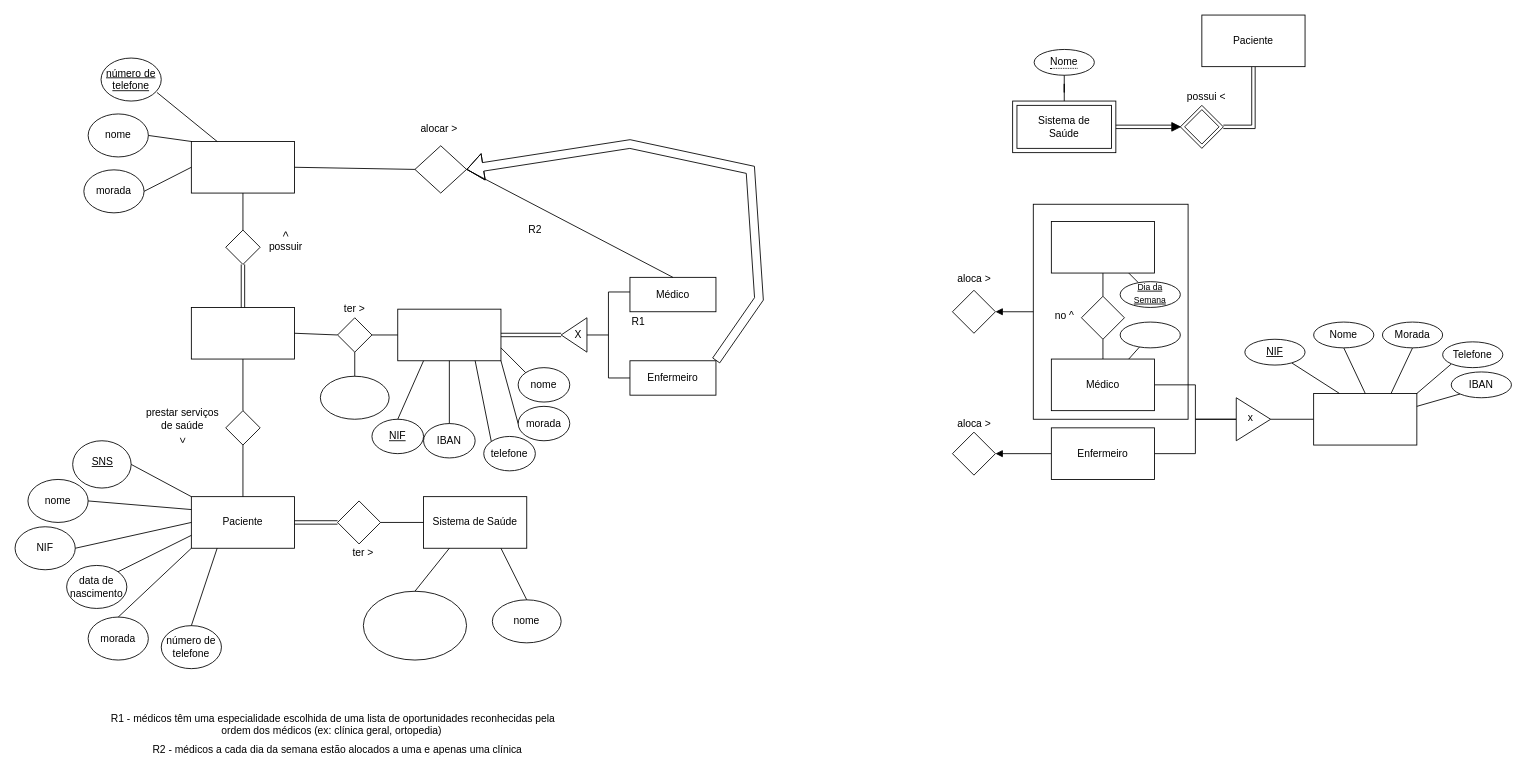
Some shapes in this 1527 by 778 pixel diagram are drawn without their labels. Here are the shapes that lost their labels. From the top down, the centre of each, then its label:
(242,167): Clínica
(1102,247): Dia
(242,333): Empresa
(449,334): Profissionais de Saúde
(1149,334): Especialidade
(354,397): contrato
(1365,419): Profissional de Saúde
(414,625): número de sistema nacional de saúde
